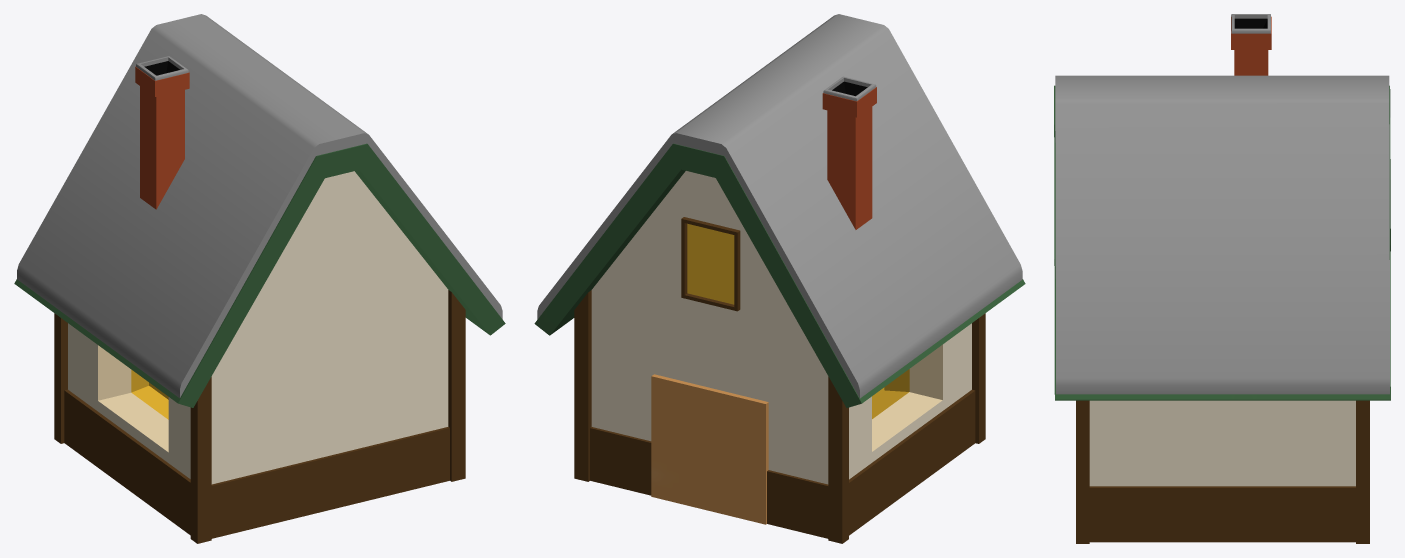
File: hosue_7.fbx
3 views of the same model, side by side, from view 1: azimuth 30°, elevation 25°; view 2: azimuth 150°, elevation 25°; view 3: azimuth 270°, elevation 25° (orthographic). The views are drawn at different scales.
Parts seen in each view (by area): view 1: Object007, Object064, Object052; view 2: Object007, Object064, Object052; view 3: Object064, Object007.
Part boxes in pixels (bbox=[...]): Object007: bbox=[14, 61, 505, 543]; Object064: bbox=[17, 14, 502, 398]; Object052: bbox=[131, 369, 168, 419]; Object007: bbox=[534, 81, 1025, 543]; Object064: bbox=[537, 14, 1022, 398]; Object052: bbox=[687, 223, 909, 418]; Object064: bbox=[1055, 14, 1389, 394]; Object007: bbox=[1054, 16, 1390, 543].
Bounding box in the file's own units: 590 × 693 × 512.
